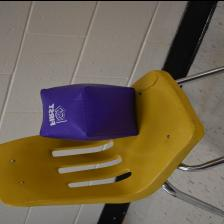cube: (38, 82, 138, 141)
